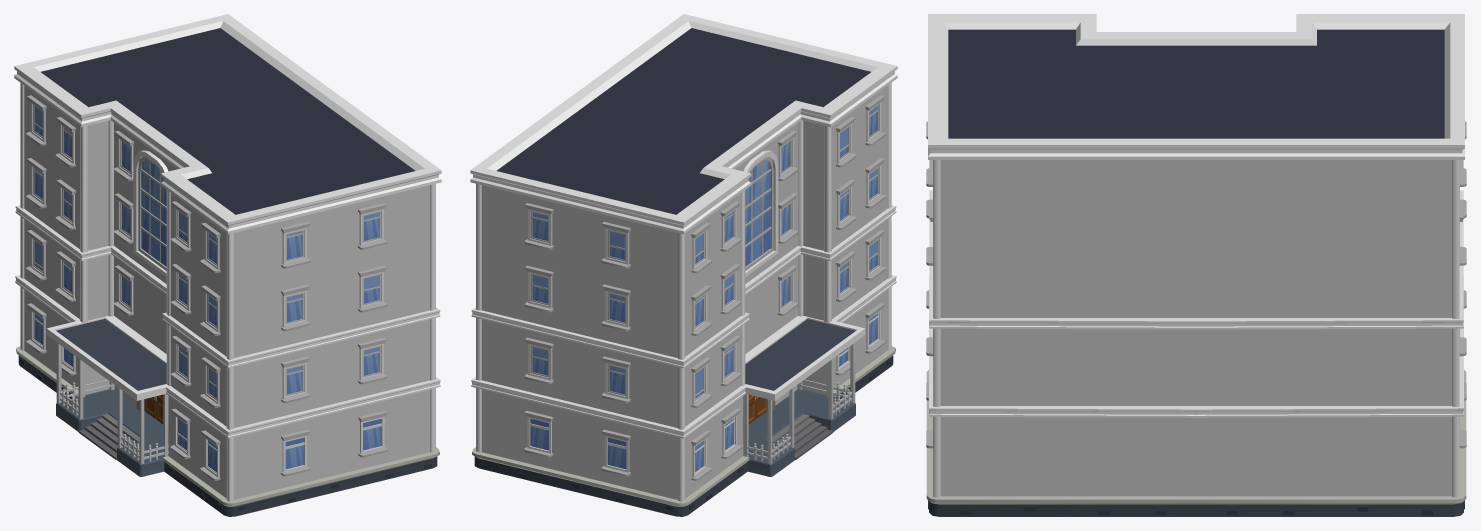
Rendered from Building_5_3_B.fbx.
3 renders of one model, left to right at view 1: azimuth 30°, elevation 25°; view 2: azimuth 150°, elevation 25°; view 3: azimuth 270°, elevation 25°, orthographic. The views are drawn at different scales.
Parts seen in each view (by area): view 1: Building_5_3_B; view 2: Building_5_3_B; view 3: Building_5_3_B.
Boxes of the visible parts, x1,y1,x2,y2 form: Building_5_3_B: (14, 14, 441, 516); Building_5_3_B: (470, 14, 897, 516); Building_5_3_B: (926, 14, 1466, 516).
Size of the model in its own units: 1251 by 1450 by 1908.
